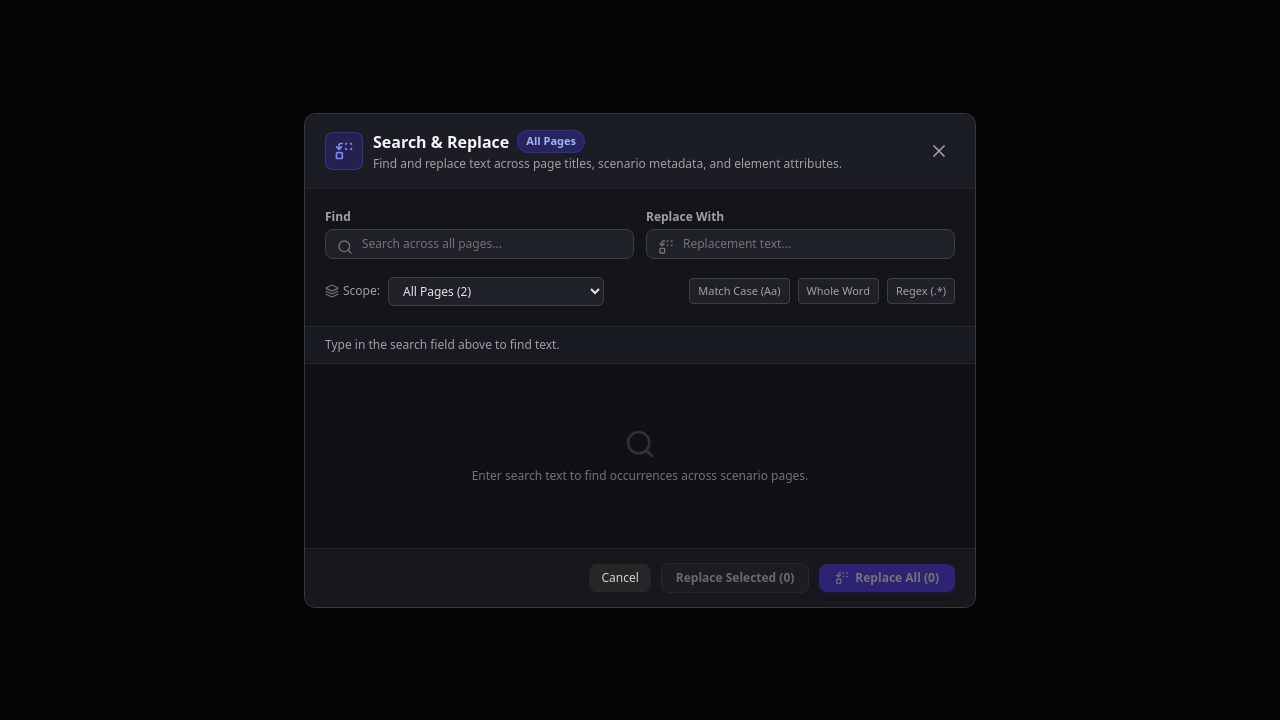
it: SearchReplaceModal › searches across all pages and renders matching diff snippets
Type "goblin" into the field with placeholder "Search across all pages...".
click(480, 244); type("goblin")  # box [325,228,634,258]
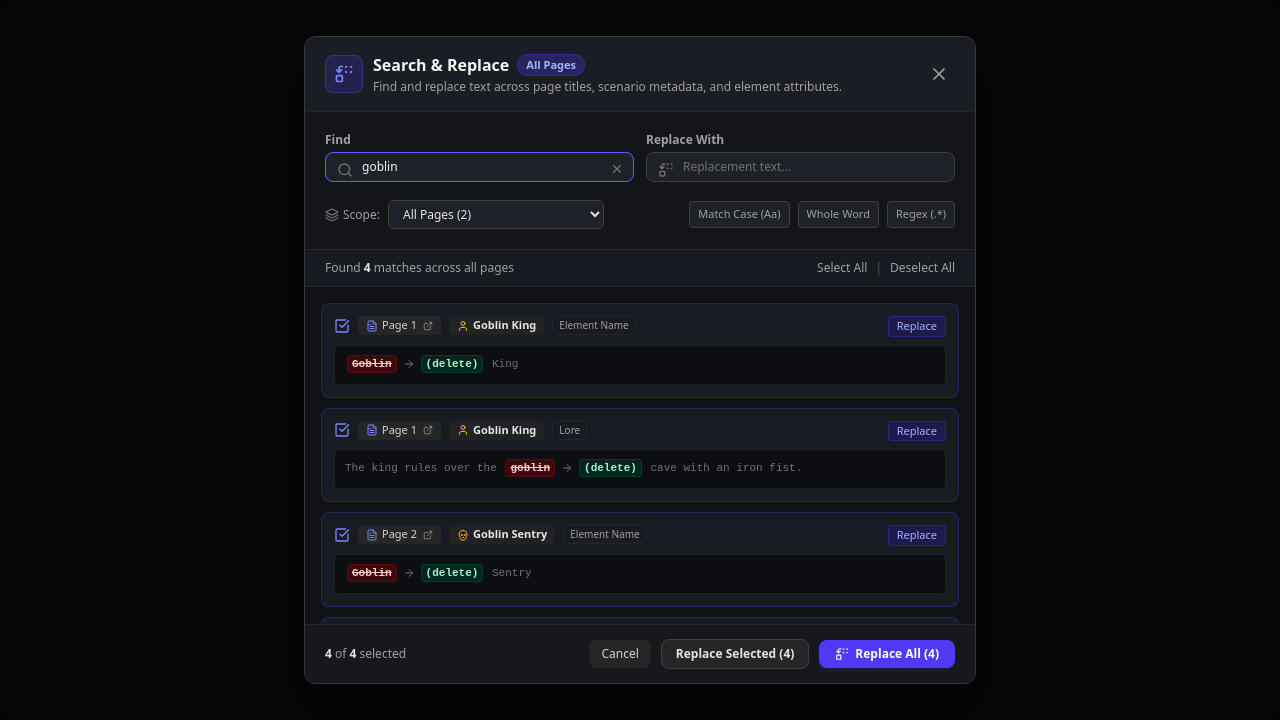
Result: the text "Found 4 matches across all pages" is shown at [325,259,514,276]
Result: the button "Replace All (4)" is enabled at [819,640,955,668]
